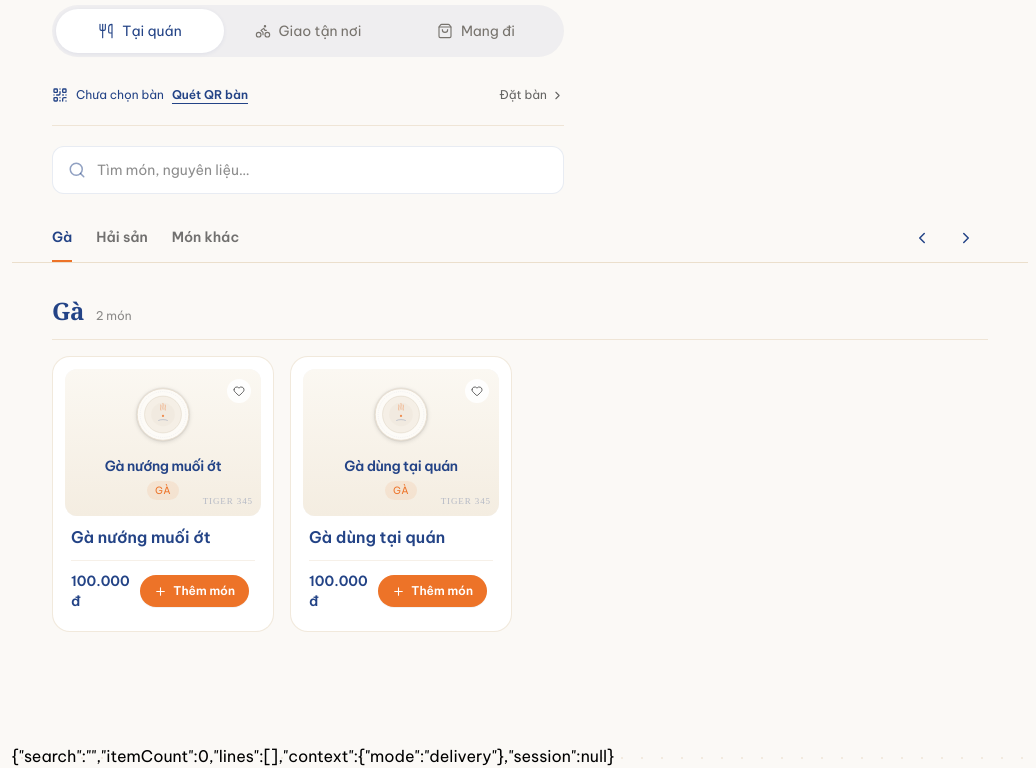
Scenario: MenuPage category navigation › adjusts a dish quantity inline and returns to the add button at zero
The image size is (1036, 768).
(page scrolled)
Click the 1st button "Thêm món" at (195, 591), box [134,569,255,613]
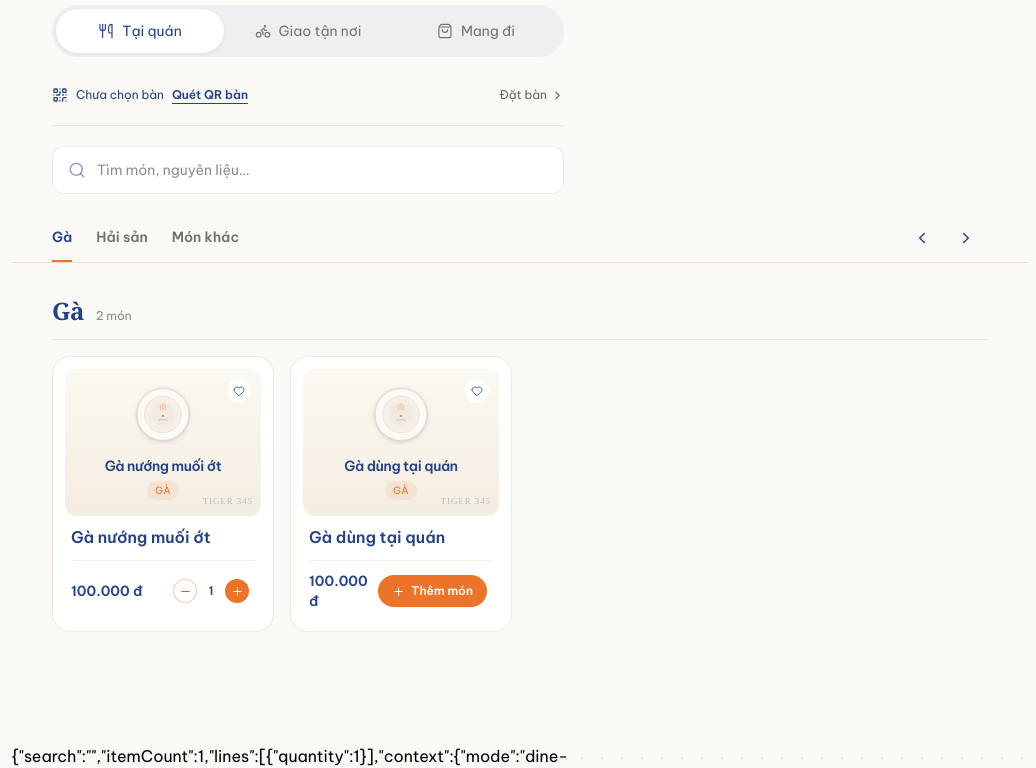
Result: the text named "Số lượng Gà nướng muối ớt" reads "1" at [208,583,214,598]
Click the button named "Tăng số lượng Gà nướng muối ớt" at (237, 591), box [219,569,255,613]
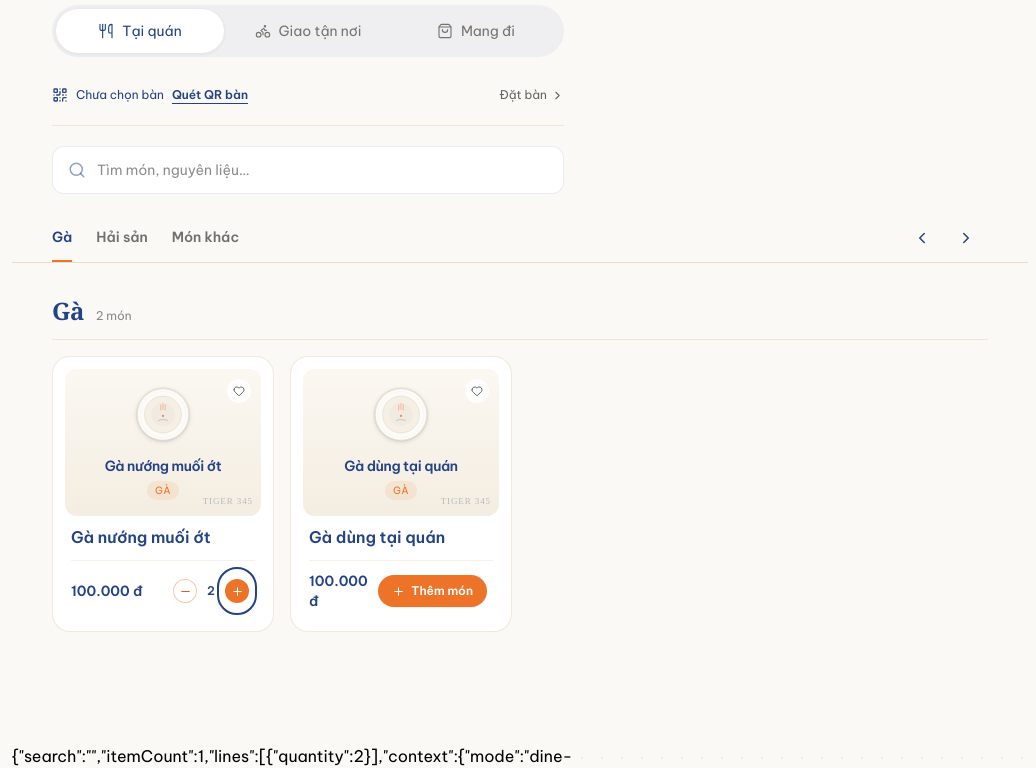
Result: the text named "Số lượng Gà nướng muối ớt" reads "2" at [207,583,215,598]
Click the button named "Giảm số lượng Gà nướng muối ớt" at (185, 591), box [167,569,203,613]
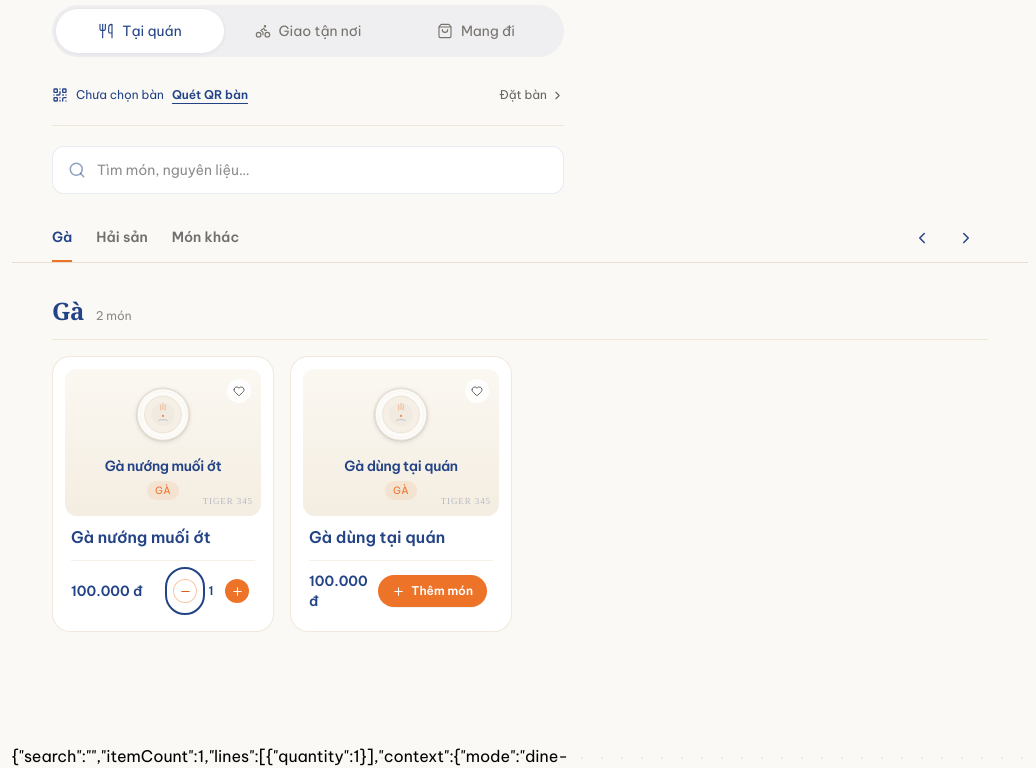
Result: the text named "Số lượng Gà nướng muối ớt" reads "1" at [208,583,214,598]
Click the button named "Giảm số lượng Gà nướng muối ớt" at (185, 591), box [167,569,203,613]
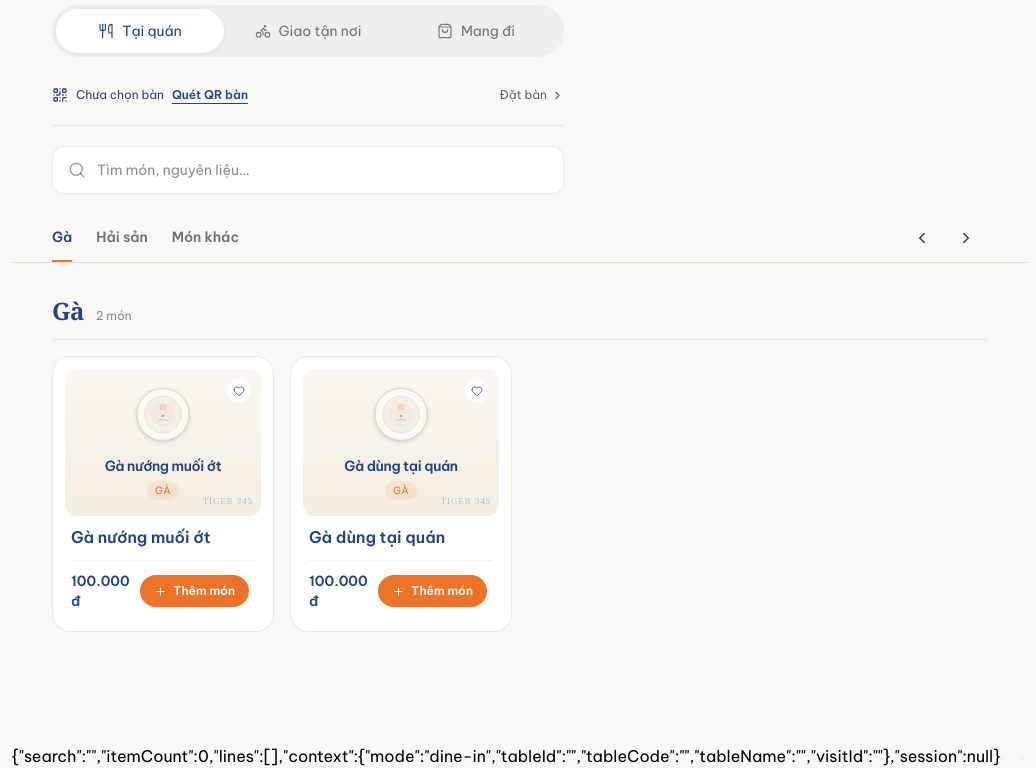
Result: the 1st button "Thêm món" is enabled at [134,569,255,613]
